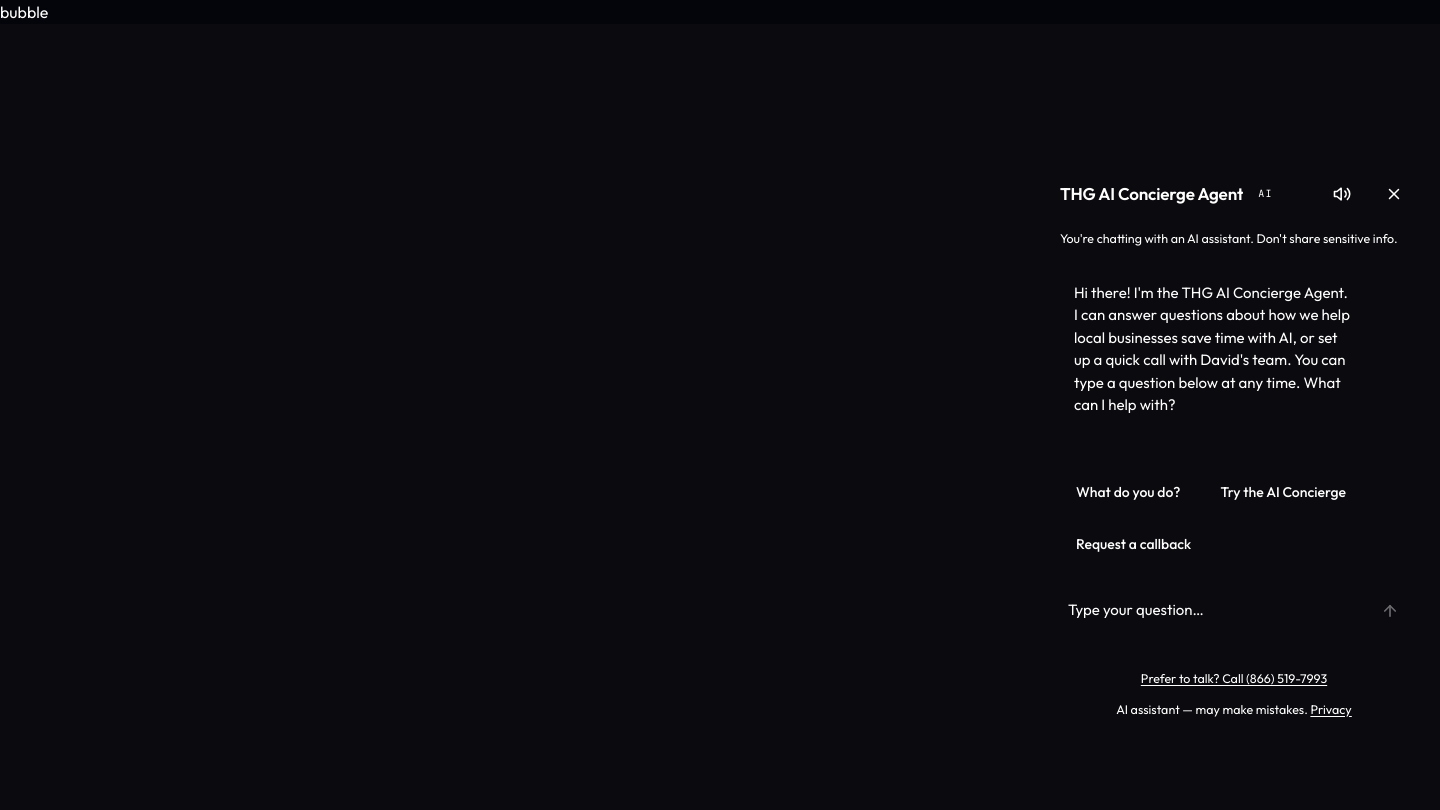
Scenario: ChatPanel voice: the cap on spoken replies › with no bonus: one "done for today" notice, no chip, no speaker toggle
Check: the button named "Sound" is shown, box [1320, 172, 1364, 216]
Step 1. Type "hello" into the text box named "Message" → (1208, 610), box [1056, 588, 1360, 632]
Then press Enter
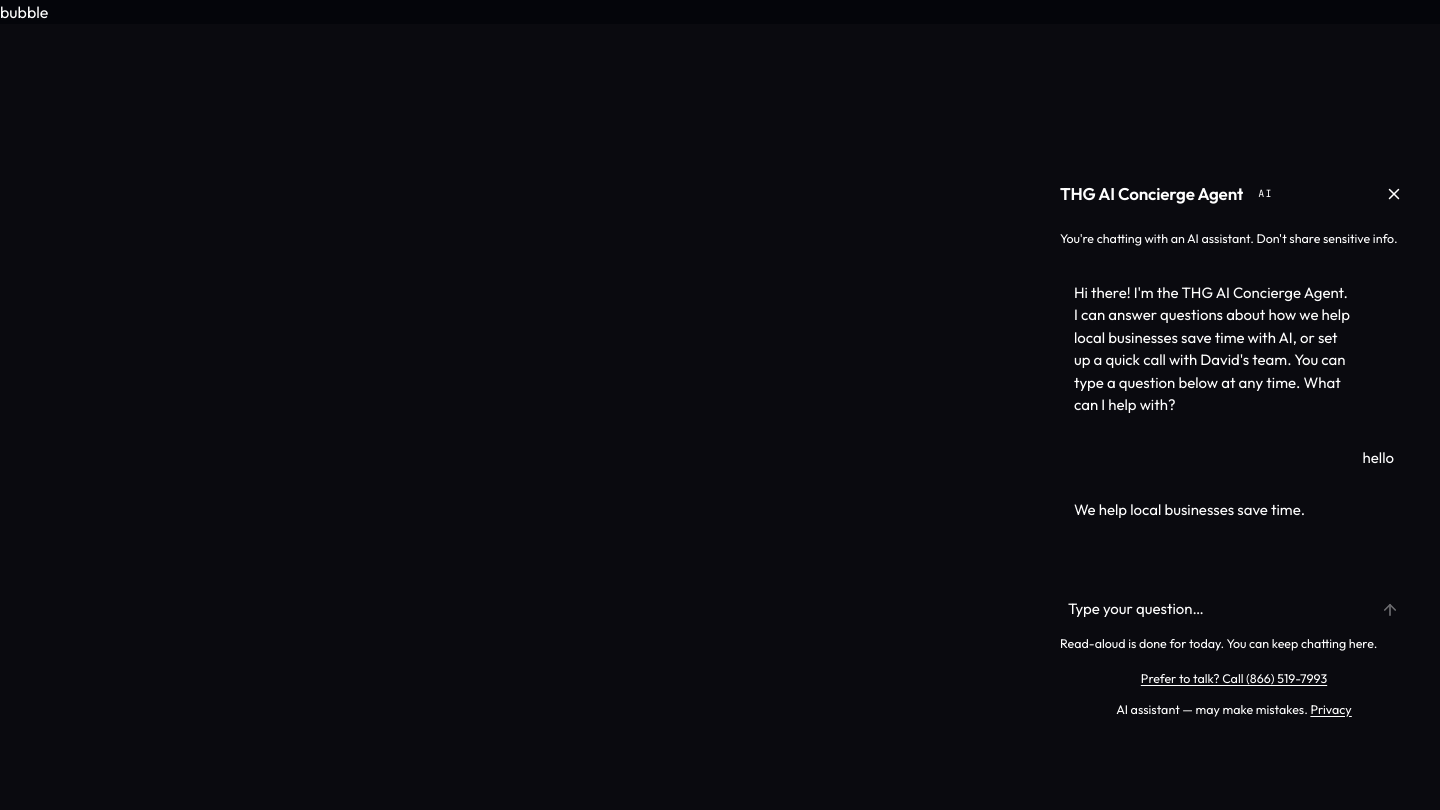
Check: the message reads "Read-aloud is done for today. You can keep chatting here.", box [1060, 635, 1378, 651]
Check: the button "Sound" is gone
